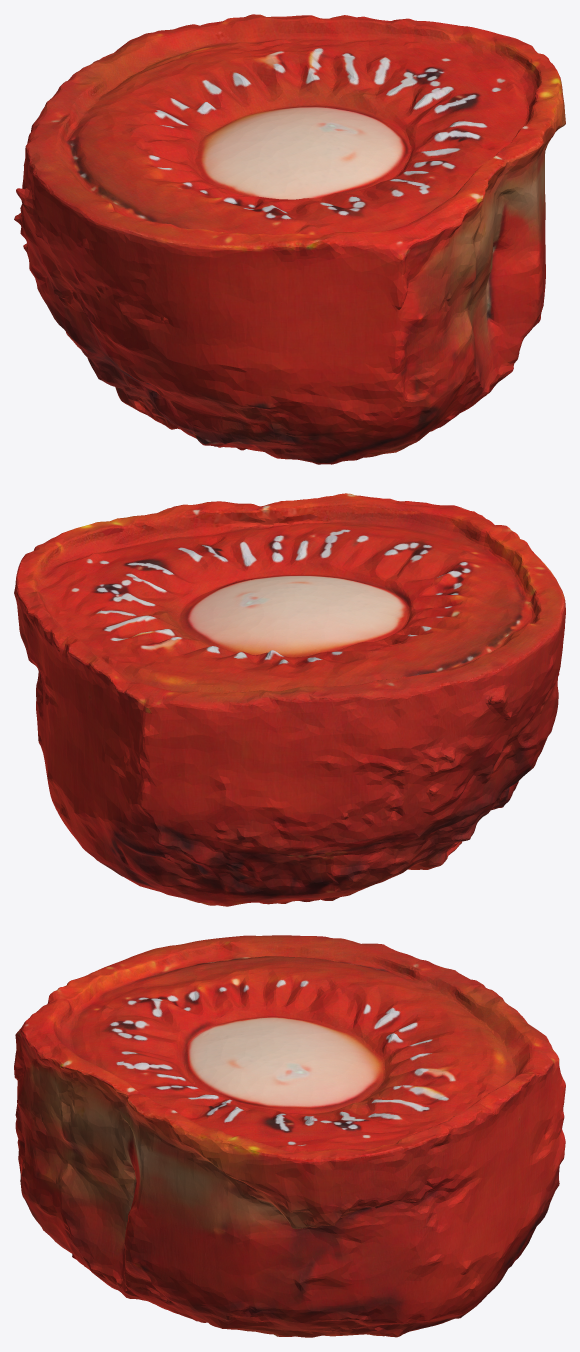
Rendered from image_0003_segmented.glb.
The picture shows the model from 3 angles, top to bottom: view 1: azimuth 30°, elevation 25°; view 2: azimuth 150°, elevation 25°; view 3: azimuth 270°, elevation 25°; orthographic projection. The views are drawn at different scales.
Visible parts, largest first — view 1: tmpm9nx6tkw.ply; view 2: tmpm9nx6tkw.ply; view 3: tmpm9nx6tkw.ply.
Boxes of the visible parts, x1,y1,x2,y2 form: tmpm9nx6tkw.ply: [14, 14, 565, 464]; tmpm9nx6tkw.ply: [14, 493, 565, 906]; tmpm9nx6tkw.ply: [14, 935, 565, 1337].
Bounding box in the file's own units: 1.97 × 0.991 × 1.99.
Materials: 1 (1 with a texture image).
